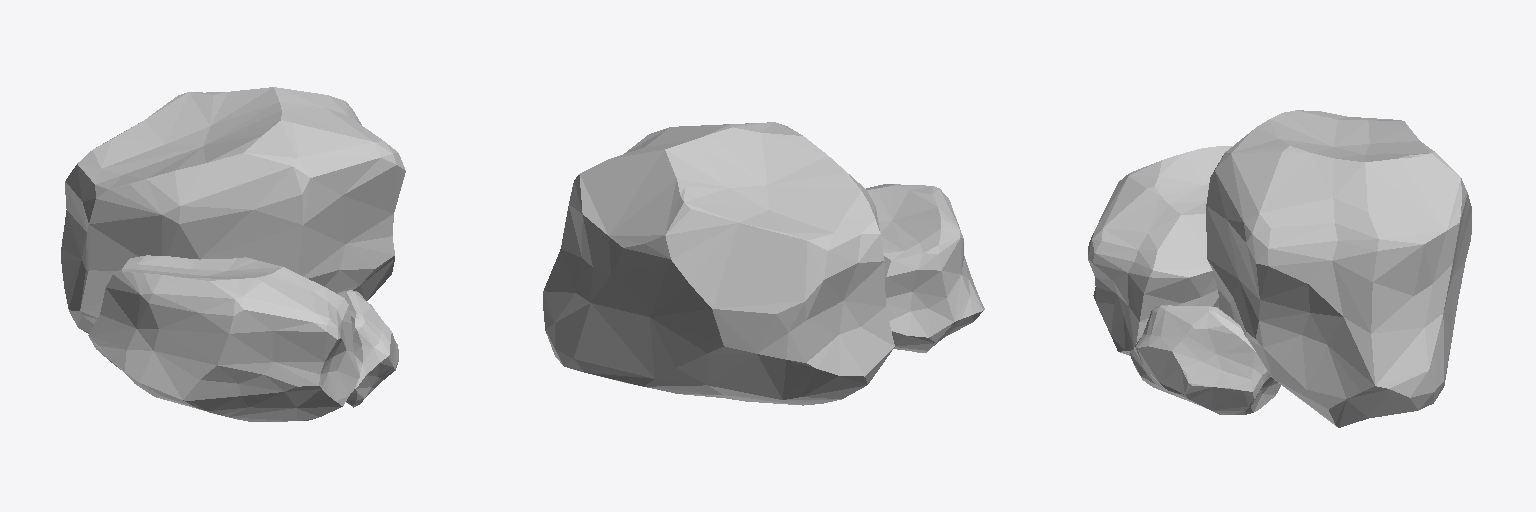
The model's file is rocks1.obj.
3 views of the same model, side by side, from view 1: azimuth 30°, elevation 25°; view 2: azimuth 150°, elevation 25°; view 3: azimuth 270°, elevation 25° (orthographic).
Visible parts, largest first — view 1: Cube_Cube.001, Cube.001_Cube.002, Cube.002_Cube.003; view 2: Cube_Cube.001, Cube.001_Cube.002; view 3: Cube_Cube.001, Cube.001_Cube.002, Cube.002_Cube.003.
Part boxes in pixels (left/top/right/bottom): Cube_Cube.001: left=61, top=87, right=405, bottom=333; Cube.001_Cube.002: left=88, top=255, right=359, bottom=421; Cube.002_Cube.003: left=338, top=290, right=398, bottom=407; Cube_Cube.001: left=543, top=122, right=894, bottom=405; Cube.001_Cube.002: left=866, top=184, right=984, bottom=352; Cube_Cube.001: left=1206, top=110, right=1471, bottom=427; Cube.001_Cube.002: left=1088, top=146, right=1232, bottom=355; Cube.002_Cube.003: left=1130, top=305, right=1280, bottom=414.
Bounding box in the file's own units: 1.71 × 1.15 × 1.61.